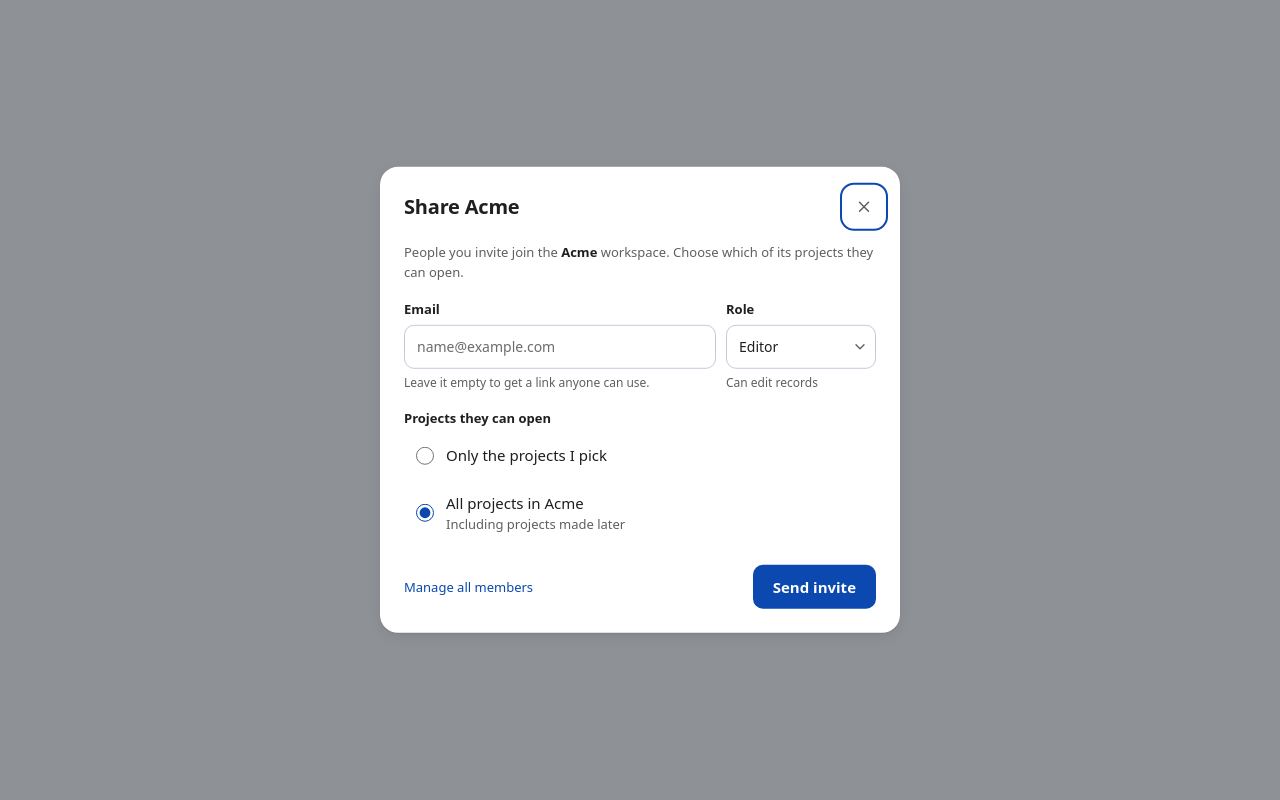
Test case: Share dialog: invite people › from the workspace page, has no view tab and defaults an owner to every base
This screenshot has width=1280, height=800.
Check: the radio button labelled "All projects in Acme" is checked, box [416,504,434,522]
Click the button "Send invite": (814, 587) [753,565,876,609]
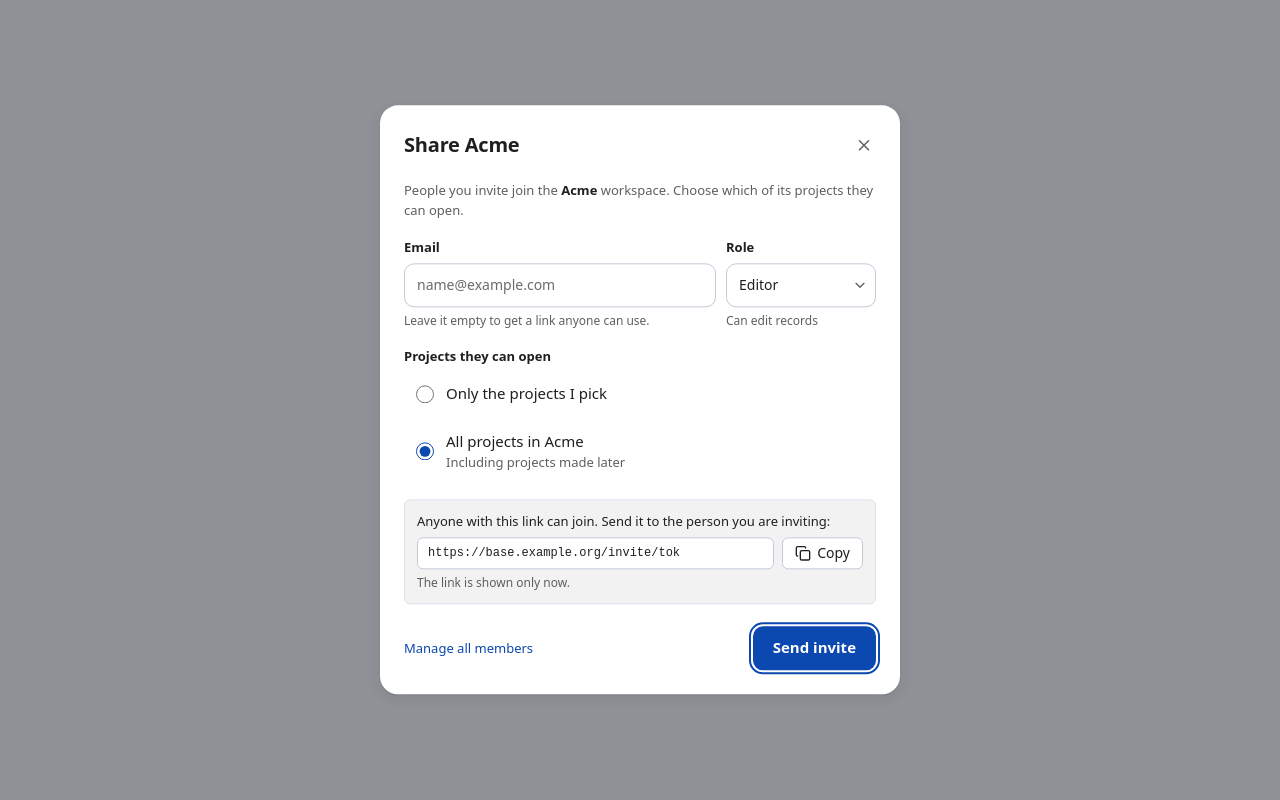
Check: the text "Anyone with this link can join. Send it to the person you are inviting:" is shown, box [417,513,863,532]
